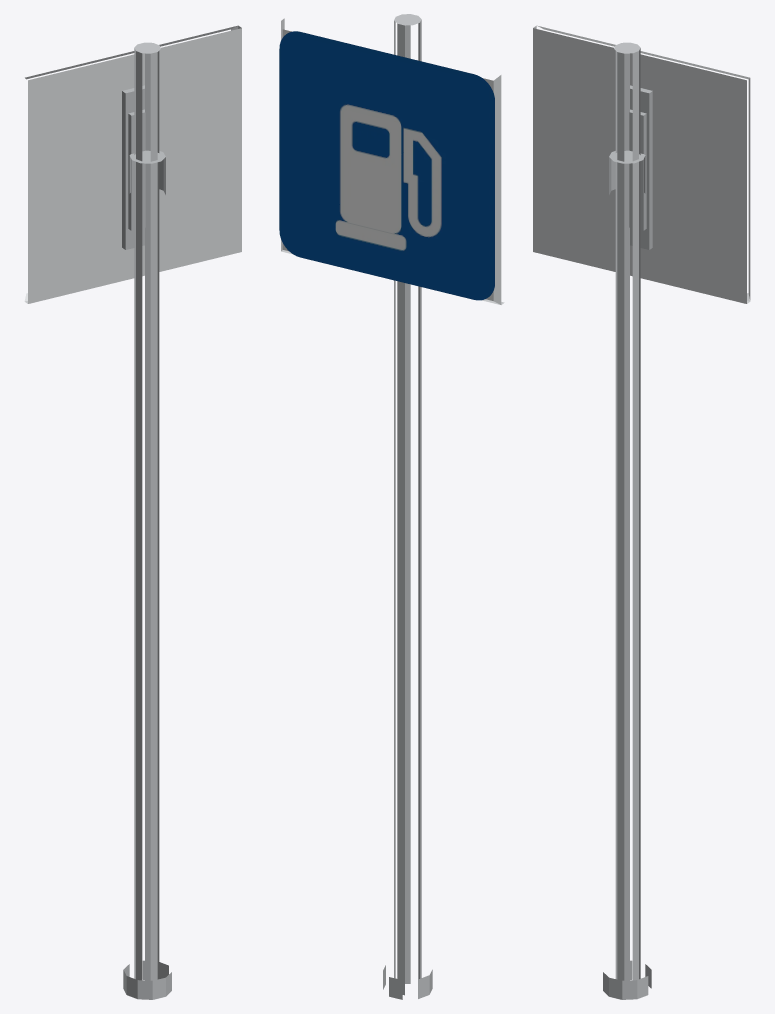
File: sign_service_fuel.glb
3 views of the same model, side by side, from view 1: azimuth 30°, elevation 25°; view 2: azimuth 150°, elevation 25°; view 3: azimuth 330°, elevation 25° (orthographic). The views are drawn at different scales.
Visible parts, largest first — view 1: sign_service_fuel; view 2: sign_service_fuel; view 3: sign_service_fuel.
Part boxes in pixels (x1,y1,x2,y2): sign_service_fuel: (24,25,241,999); sign_service_fuel: (279,14,504,999); sign_service_fuel: (533,25,750,999).
Size of the model in its own units: 0.62 by 2.45 by 0.1487.
Materials: 5 (1 with a texture image).
